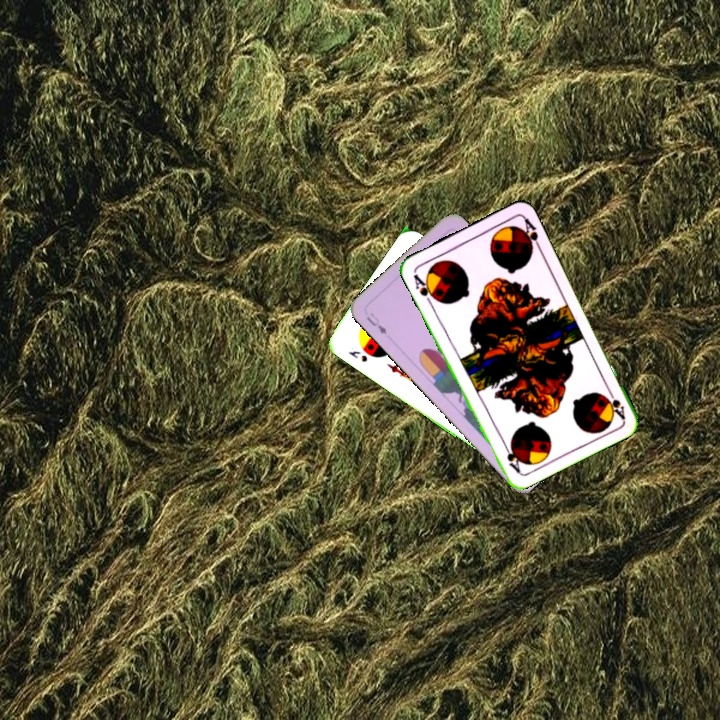EU: (362, 309, 390, 337)
SA: (409, 270, 439, 307), (600, 384, 628, 422)
SK: (344, 346, 370, 365)
